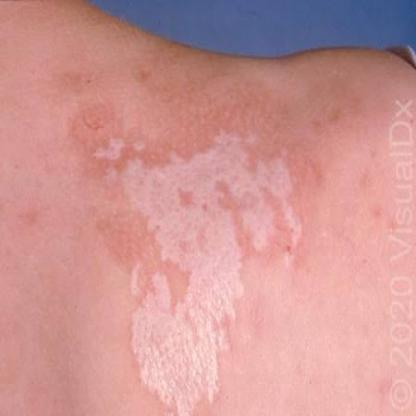Hansen-s Disease-Leprosy: (98, 124, 307, 415)
